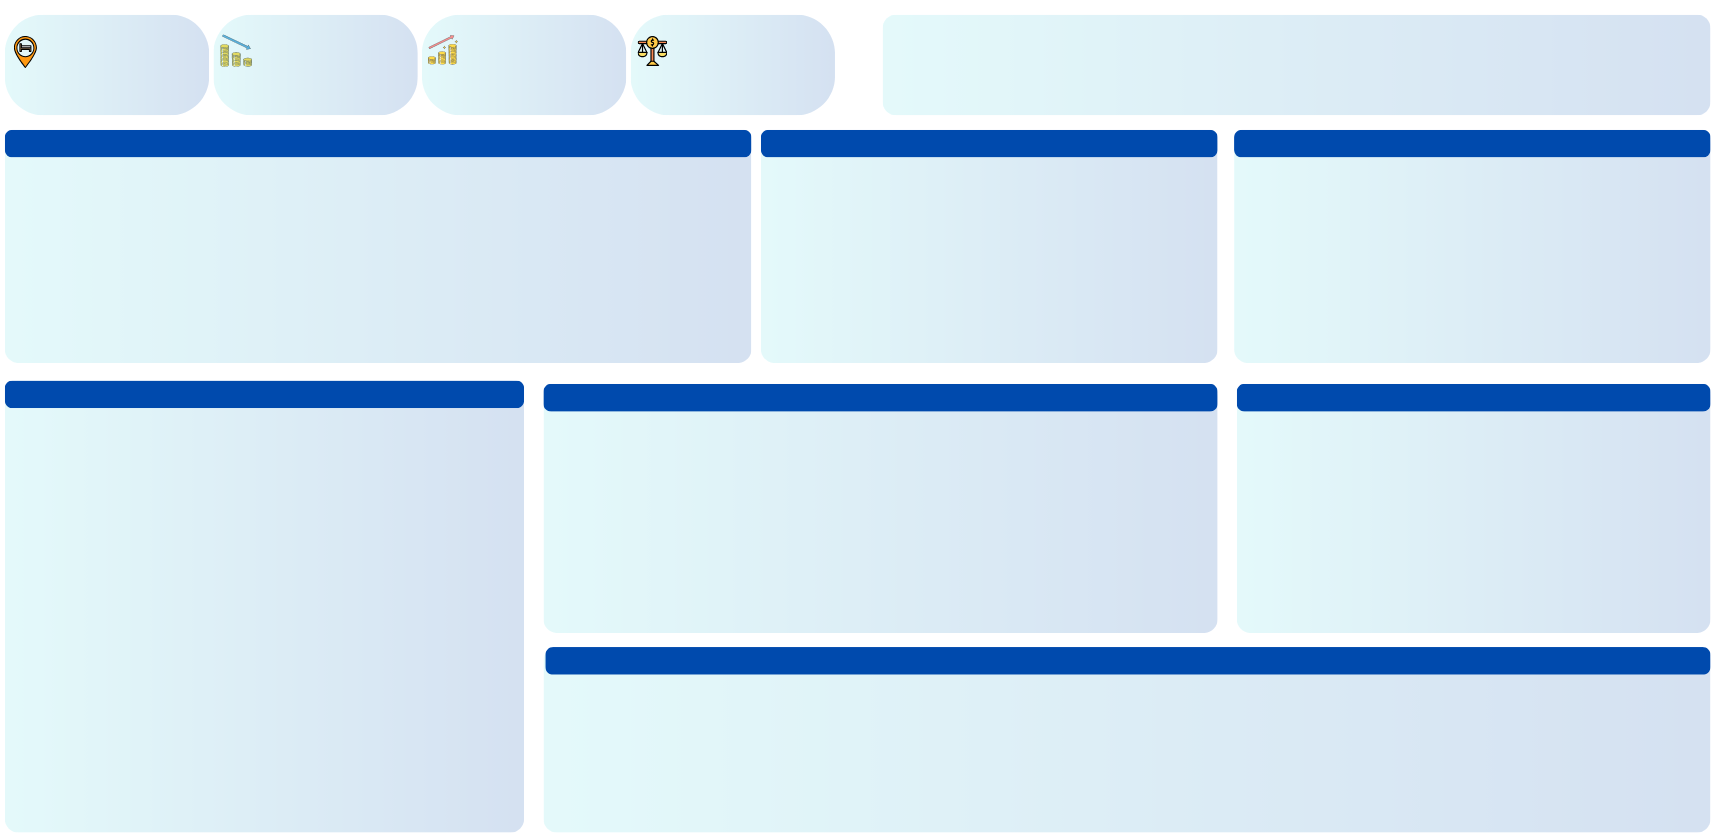

This screenshot's page, from the dashboard's own definition file:
{"tool":"powerbi","page":{"name":"Página 1","canvas":[1720,840],"ordinal":0},"visuals":[{"type":"cardVisual","fields":{"Data":["Sum(c_gold VW_VISAO_GERAL.total_anuncios)"]},"box":[10,15,200,100],"z":0},{"type":"cardVisual","fields":{"Data":["Sum(c_gold VW_VISAO_GERAL.preco_minimo)"]},"box":[217.3,15,200,100],"z":1000},{"type":"cardVisual","fields":{"Data":["Sum(c_gold VW_VISAO_GERAL.preco_maximo)"]},"box":[424.7,15,200,100],"z":2000},{"type":"cardVisual","fields":{"Data":["Sum(c_gold VW_VISAO_GERAL.preco_medio_geral)"]},"box":[632,15,200,100],"z":3000},{"type":"lineClusteredColumnComboChart","title":"Popularidade x Ticket médio por bairro","fields":{"Category":["c_gold VW_TOP_BAIRROS.bairro"],"Y":["Sum(c_gold VW_TOP_BAIRROS.qtde_anuncios)"],"Y2":["Sum(c_gold VW_TOP_BAIRROS.preco_medio)"]},"box":[8,130,743,199],"z":4000},{"type":"lineChart","title":"Evolução do preço ao longo do ano","fields":{"Y":["Sum(c_gold VW_SAZONALIDADE.preco_medio)"],"Category":["c_gold VW_SAZONALIDADE.mes.Variation.Hierarquia de datas.Mês"]},"box":[545,380,674,219],"z":5000},{"type":"lineStackedColumnComboChart","title":"Preço médio por tipo de imóvel","fields":{"Category":["c_gold VW_CARACTERISTICAS_IMOVEIS.property_type_std"],"Y":["Avg(c_gold VW_CARACTERISTICAS_IMOVEIS.preco_medio)"]},"box":[1232,130,480,199],"z":6000},{"type":"clusteredColumnChart","title":"Impacto das comodidades no preço","fields":{"Y":["Sum(c_gold VW_AMENIDADES_IMOVEIS.preco_arcondicionado)","Sum(c_gold VW_AMENIDADES_IMOVEIS.preco_piscina)","Sum(c_gold VW_AMENIDADES_IMOVEIS.preco_wifi)"]},"box":[761,130,458,199],"z":7000},{"type":"scatterChart","title":"Impacto do preço na avaliação da estadia","fields":{"X":["Sum(c_gold VW_AVALIACOES_PRECO.preco_medio)"],"Y":["c_gold VW_AVALIACOES_PRECO.nota"]},"box":[1242,388,470,211],"z":8000},{"type":"map","title":"Distribuição e intensidade dos anúncios","fields":{"Y":["c_gold VW_MAPA_PRECOS_BAIRRO.latitude"],"X":["c_gold VW_MAPA_PRECOS_BAIRRO.longitude"],"Size":["Sum(c_gold VW_MAPA_PRECOS_BAIRRO.media_preco)"]},"box":[10,380,514,417],"z":9000},{"type":"textbox","box":[8,329,743,29],"z":10000},{"type":"textbox","box":[761,329,458,29],"z":11000},{"type":"textbox","box":[1232,329,480,29],"z":12000},{"type":"textbox","box":[545,599,697,29],"z":13000},{"type":"textbox","box":[1259,599,453,29],"z":14000},{"type":"textbox","box":[8,797,517,29],"z":15000},{"type":"areaChart","title":"Impacto dos pontos turísticos no valor das diárias","fields":{"Category":["c_gold VW_PRECO_X_DISTANCIA_POI.ponto_turistico"],"Y":["Sum(c_gold VW_PRECO_X_DISTANCIA_POI.preco_medio)"]},"box":[545.6,647.8,1166.7,156.7],"z":16000},{"type":"textbox","box":[545,804,1167,29],"z":17000},{"type":"textbox","box":[887,15,825,100],"z":18000}]}

Visuals, with their boxes in screenshot pixels (x1, y1, x2, y2), scaled from the page's 1720x840 canvas onto the 1720x840 screenshot:
cardVisual - Sum(c_gold VW_VISAO_GERAL.total_anuncios): [x1=10, y1=15, x2=210, y2=115]
cardVisual - Sum(c_gold VW_VISAO_GERAL.preco_minimo): [x1=217, y1=15, x2=417, y2=115]
cardVisual - Sum(c_gold VW_VISAO_GERAL.preco_maximo): [x1=425, y1=15, x2=625, y2=115]
cardVisual - Sum(c_gold VW_VISAO_GERAL.preco_medio_geral): [x1=632, y1=15, x2=832, y2=115]
"Popularidade x Ticket médio por bairro" lineClusteredColumnComboChart: [x1=8, y1=130, x2=751, y2=329]
"Evolução do preço ao longo do ano" lineChart: [x1=545, y1=380, x2=1219, y2=599]
"Preço médio por tipo de imóvel" lineStackedColumnComboChart: [x1=1232, y1=130, x2=1712, y2=329]
"Impacto das comodidades no preço" clusteredColumnChart: [x1=761, y1=130, x2=1219, y2=329]
"Impacto do preço na avaliação da estadia" scatterChart: [x1=1242, y1=388, x2=1712, y2=599]
"Distribuição e intensidade dos anúncios" map: [x1=10, y1=380, x2=524, y2=797]
textbox: [x1=8, y1=329, x2=751, y2=358]
textbox: [x1=761, y1=329, x2=1219, y2=358]
textbox: [x1=1232, y1=329, x2=1712, y2=358]
textbox: [x1=545, y1=599, x2=1242, y2=628]
textbox: [x1=1259, y1=599, x2=1712, y2=628]
textbox: [x1=8, y1=797, x2=525, y2=826]
"Impacto dos pontos turísticos no valor das diárias" areaChart: [x1=546, y1=648, x2=1712, y2=804]
textbox: [x1=545, y1=804, x2=1712, y2=833]
textbox: [x1=887, y1=15, x2=1712, y2=115]
